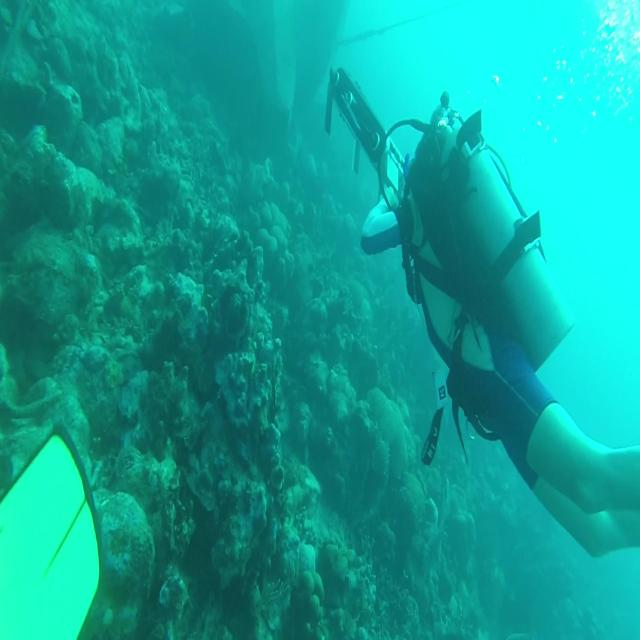human: (324, 64, 638, 558)
